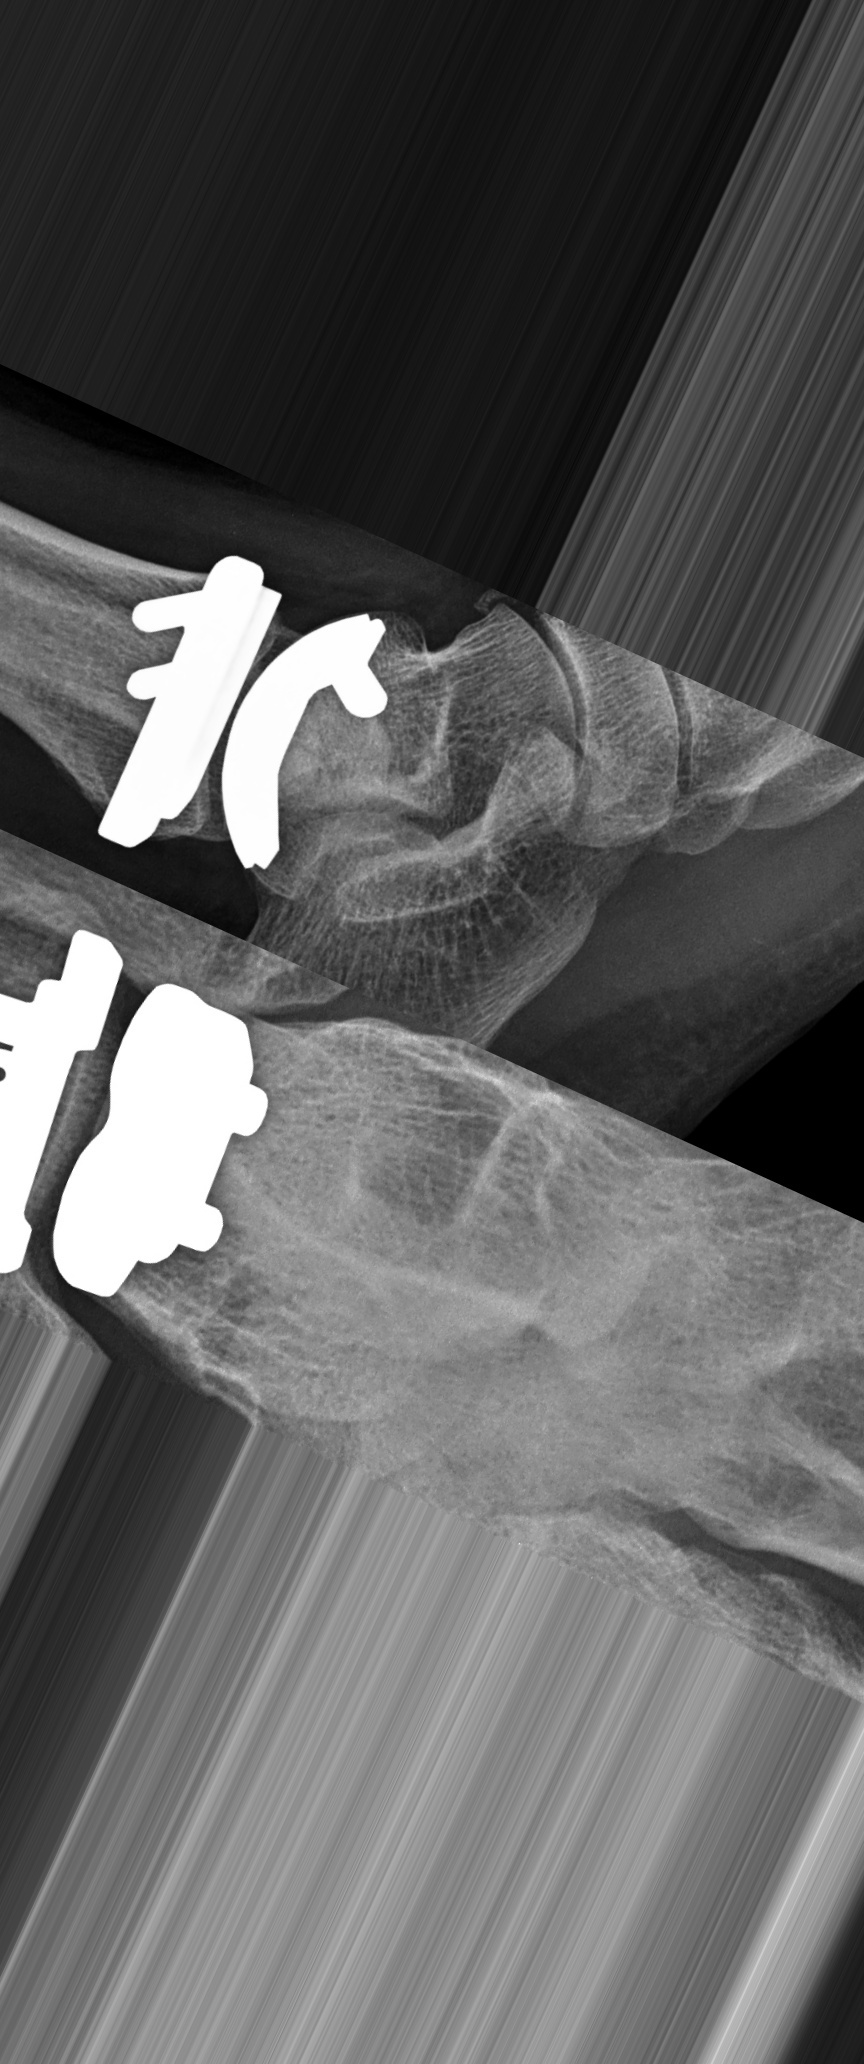Cadence-Integra: (91, 542, 412, 900), (1, 917, 273, 1326)
